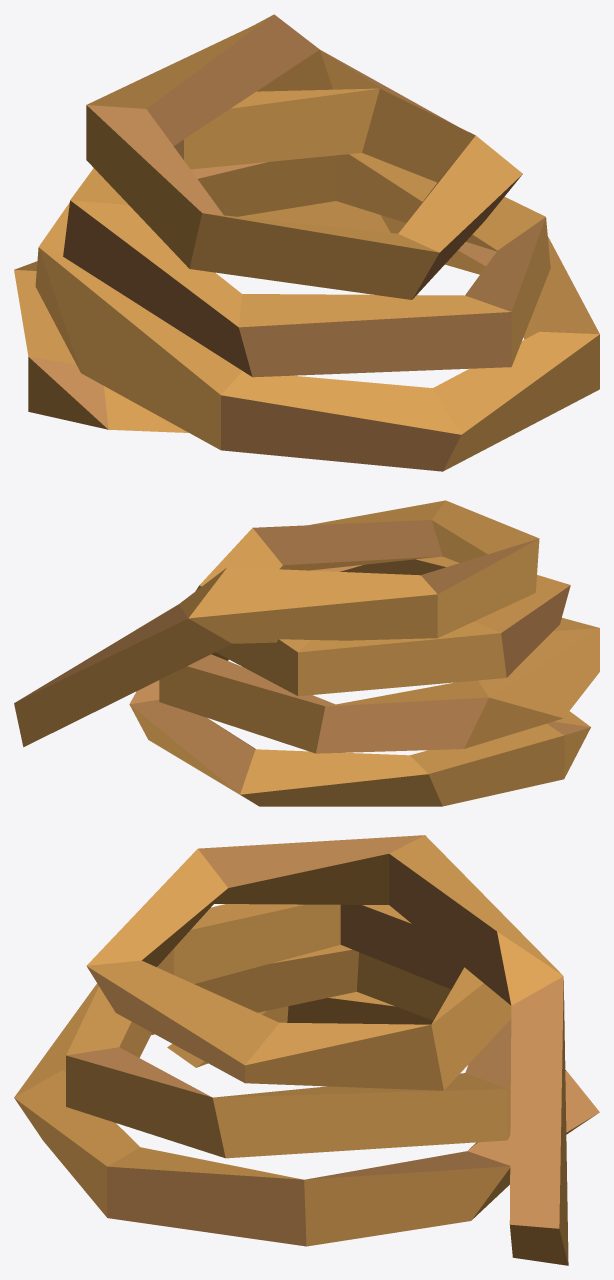
The model's file is round_rope.fbx.
The picture shows the model from 3 angles, top to bottom: view 1: azimuth 30°, elevation 25°; view 2: azimuth 150°, elevation 25°; view 3: azimuth 270°, elevation 25°; orthographic projection. The views are drawn at different scales.
Visible parts, largest first — view 1: round_rope; view 2: round_rope; view 3: round_rope.
Boxes of the visible parts, x1,y1,x2,y2 form: round_rope: (14,14,599,471); round_rope: (14,500,599,806); round_rope: (14,835,599,1265).
Bounding box in the file's own units: 113 × 49.34 × 107.
